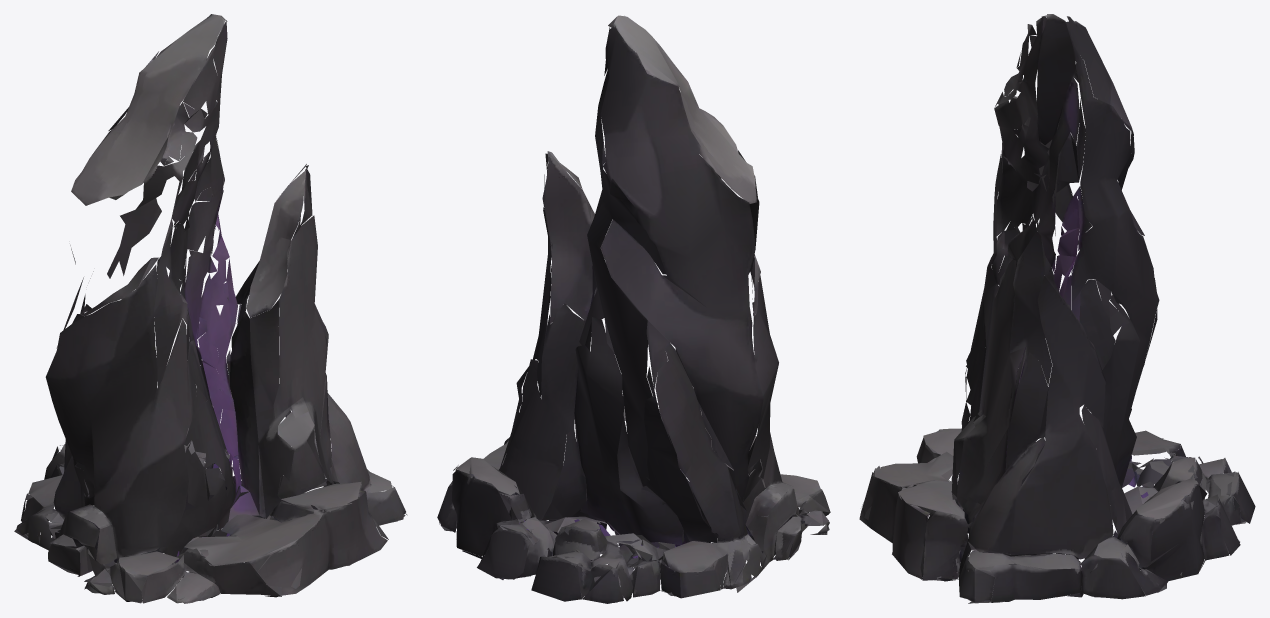
File: riftSpire.glb
3 renders of one model, left to right at view 1: azimuth 30°, elevation 25°; view 2: azimuth 150°, elevation 25°; view 3: azimuth 270°, elevation 25°, orthographic. The views are drawn at different scales.
Parts seen in each view (by area): view 1: Prop_riftSpire; view 2: Prop_riftSpire; view 3: Prop_riftSpire.
Part boxes in pixels (x1,y1,x2,y2): Prop_riftSpire: [14, 14, 407, 603]; Prop_riftSpire: [437, 15, 830, 603]; Prop_riftSpire: [859, 14, 1255, 603].
Bounding box in the file's own units: 4.71 × 7.04 × 4.86.
Materials: 1 (1 with a texture image).
